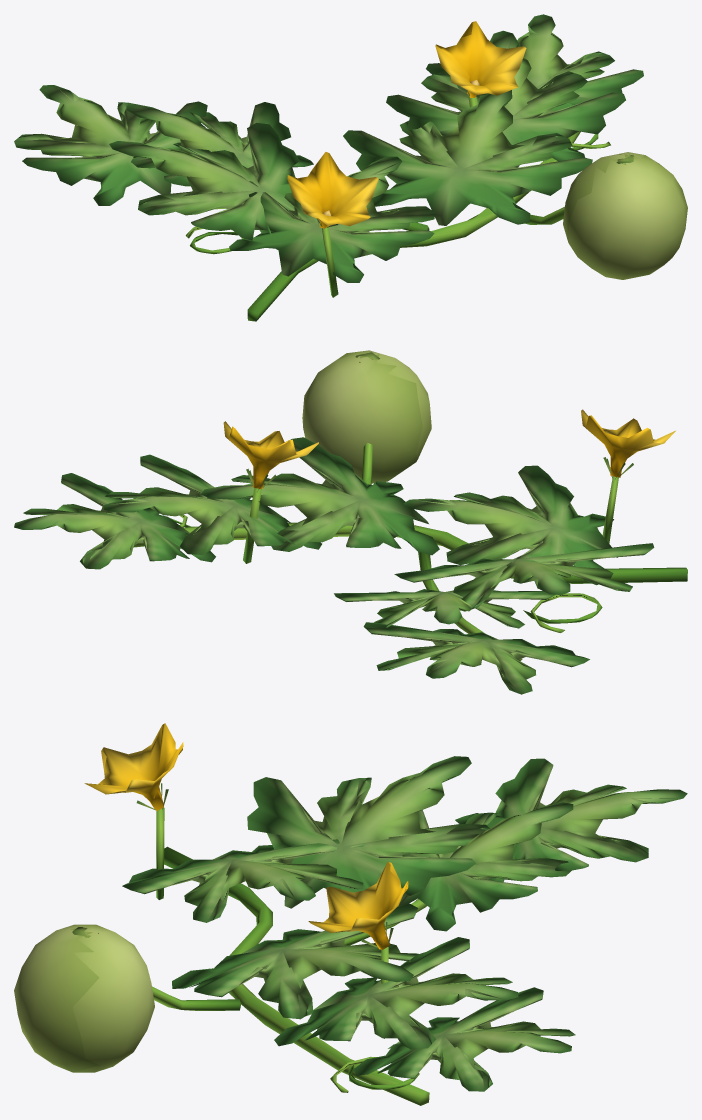
Rendered from NP_Watermelon_Flowering_LOD1.fbx.
3 views of the same model, one above another, from view 1: azimuth 30°, elevation 25°; view 2: azimuth 150°, elevation 25°; view 3: azimuth 270°, elevation 25° (orthographic). The views are drawn at different scales.
Parts seen in each view (by area): view 1: NP_Watermelon_Flowering; view 2: NP_Watermelon_Flowering; view 3: NP_Watermelon_Flowering.
Part boxes in pixels (<box>): NP_Watermelon_Flowering: <box>14,14,687,321</box>; NP_Watermelon_Flowering: <box>14,350,687,694</box>; NP_Watermelon_Flowering: <box>14,723,687,1105</box>.
Size of the model in its own units: 80.45 by 21.11 by 71.92.
